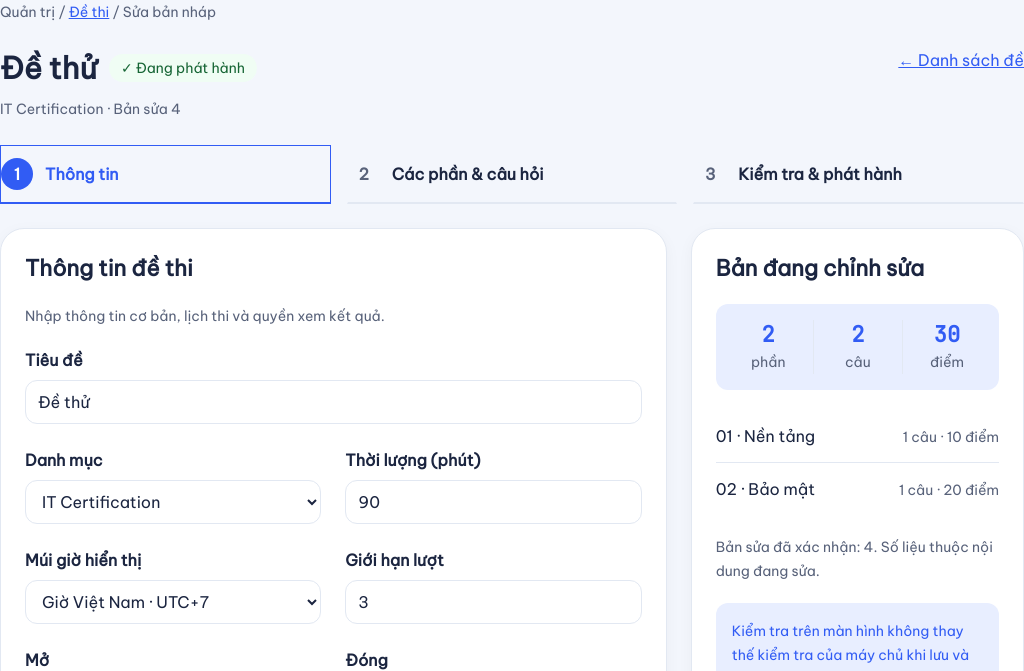
Scenario: removes only local section membership after confirmation
Expected: the heading "Đề thử" is shown, top-left (0, 48), bottom-right (97, 88)
Step 1. Click the button "2 Các phần & câu hỏi" → x=512, y=174, box top-left (347, 144), bottom-right (677, 204)
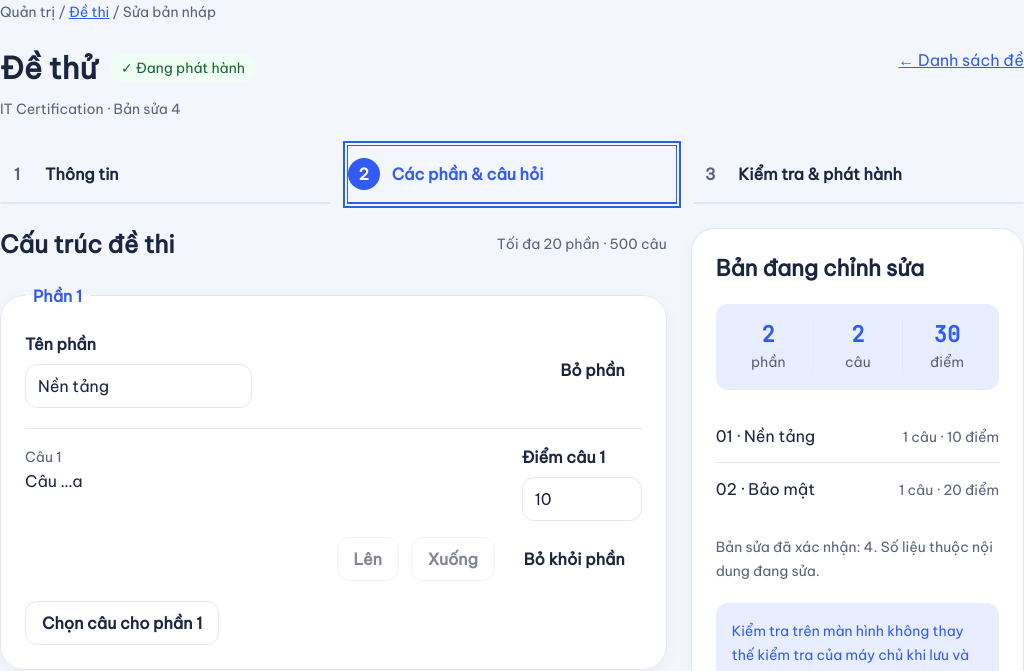
Step 2. Click the 1st button "Bỏ phần" → x=593, y=370, box top-left (543, 348), bottom-right (642, 392)
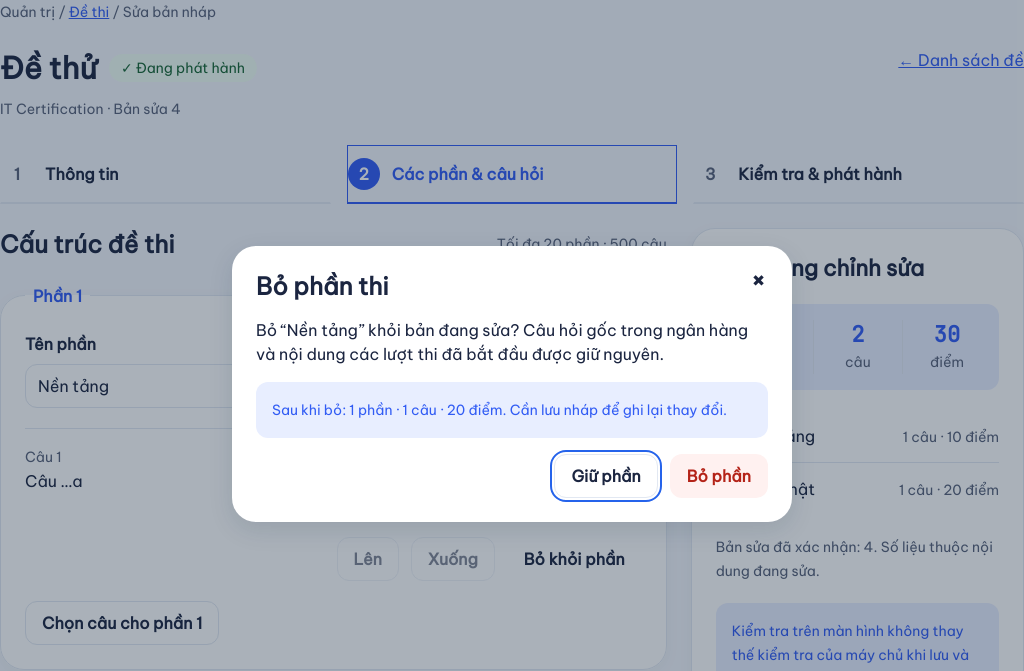
Now the number of fields labelled "Tên phần" is 2
Step 3. Click the button "Bỏ phần" → x=719, y=476, box top-left (670, 454), bottom-right (768, 498)
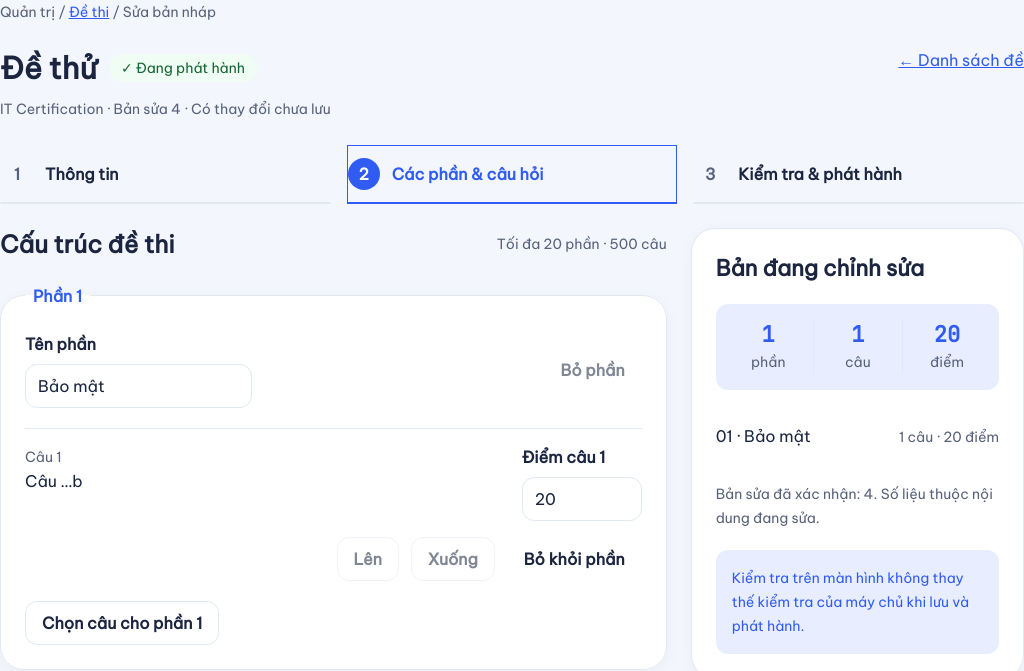
Now the number of fields labelled "Tên phần" is 1, box top-left (25, 364), bottom-right (252, 408)
Now the field labelled "Tên phần" holds "Bảo mật", box top-left (25, 364), bottom-right (252, 408)
